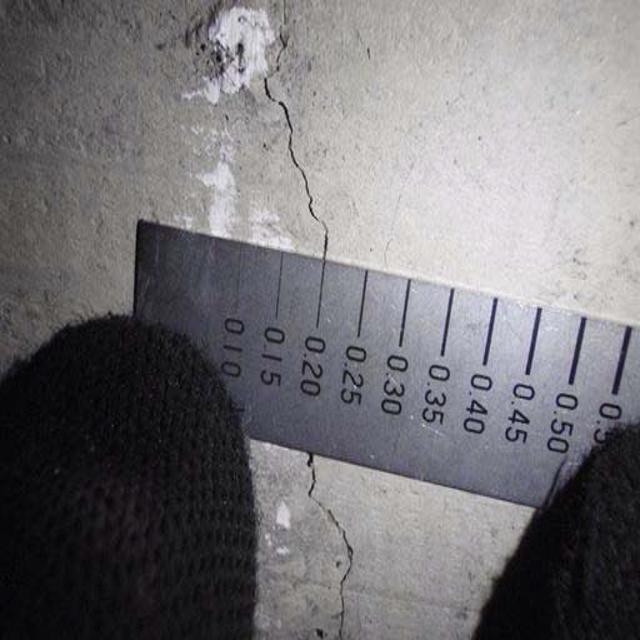crack: (249, 26, 360, 276), (293, 454, 380, 636)
